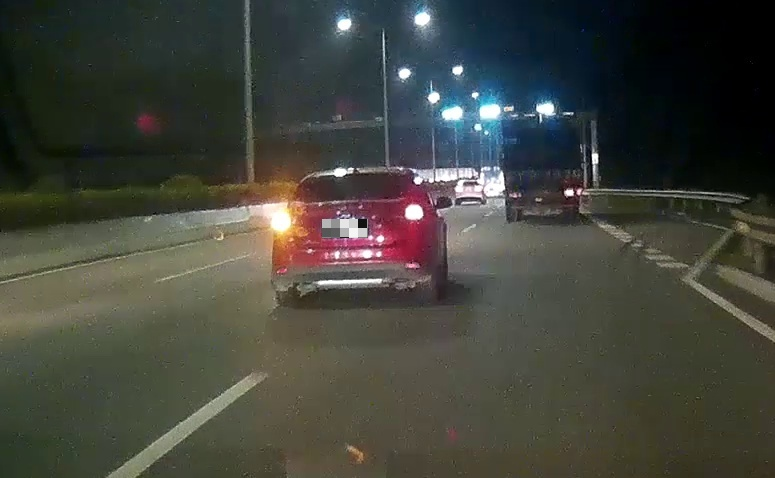L_light: (273, 213, 292, 233), (508, 190, 522, 198)
R_light: (404, 203, 425, 222), (565, 189, 581, 197)
T_light: (339, 176, 357, 180), (537, 116, 549, 120)
night-left: (269, 165, 435, 305)
night-no: (502, 111, 585, 221)
plate_1: (322, 219, 368, 238)
